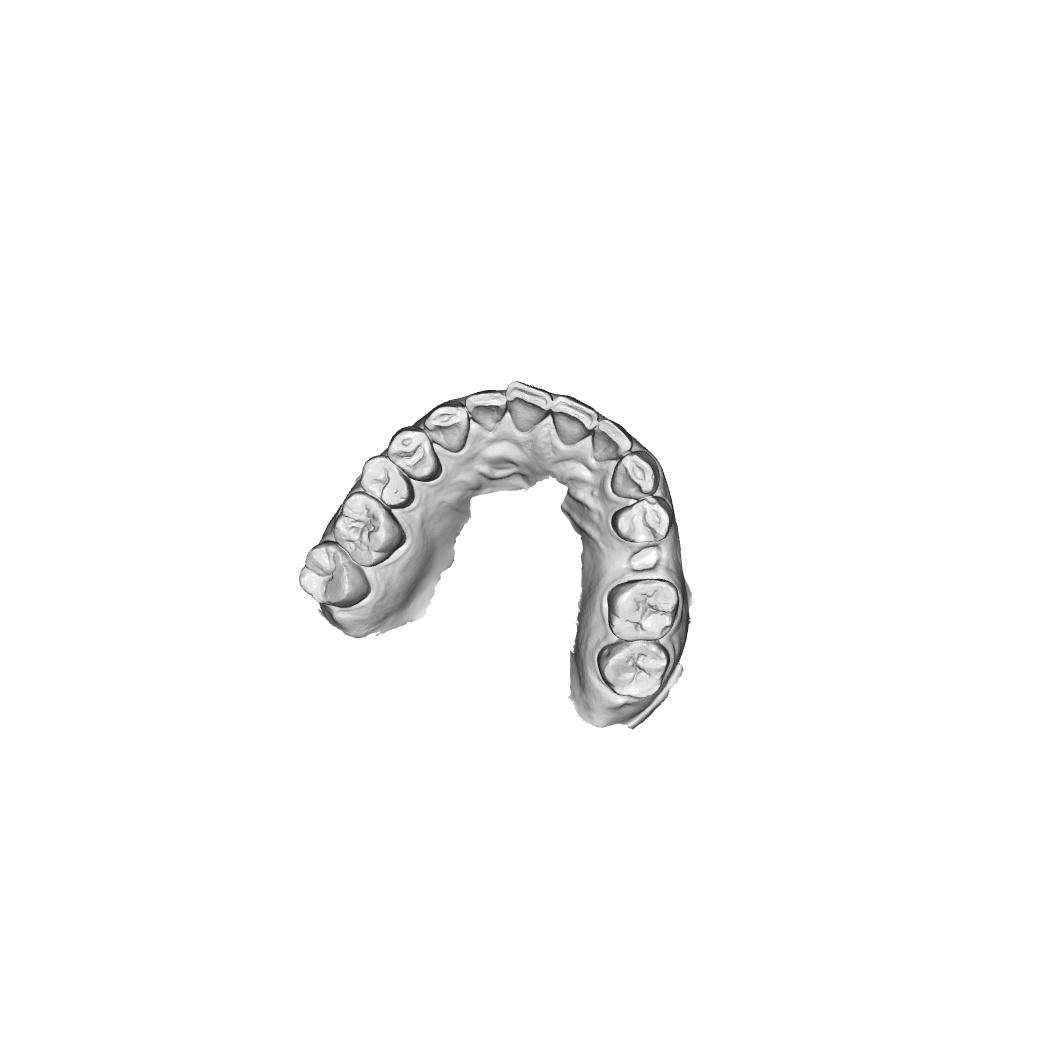canine: (610, 450, 661, 500), (424, 400, 471, 454)
incisor: (504, 380, 554, 434), (552, 394, 598, 447), (591, 417, 634, 463), (464, 389, 508, 433)
molar: (332, 491, 405, 568), (297, 540, 371, 609), (606, 577, 680, 642), (596, 640, 671, 700)
premolar: (386, 426, 444, 483), (610, 496, 674, 545), (360, 454, 415, 510)
